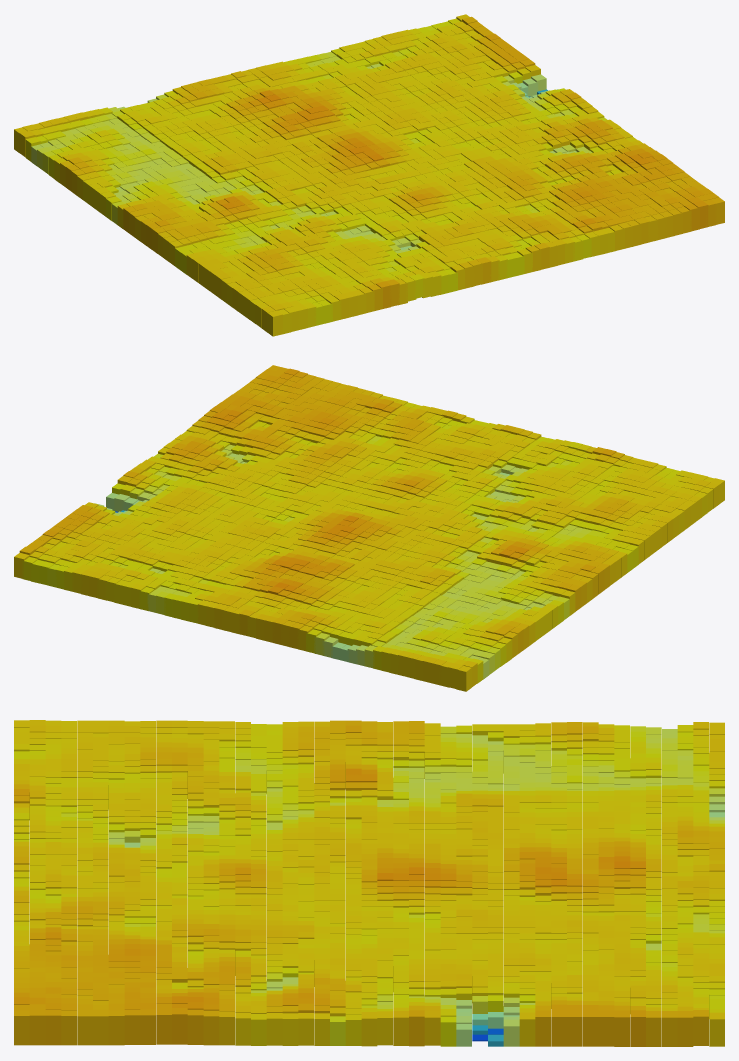
File: population.glb
The picture shows the model from 3 angles, top to bottom: view 1: azimuth 30°, elevation 25°; view 2: azimuth 150°, elevation 25°; view 3: azimuth 270°, elevation 25°; orthographic projection. The views are drawn at different scales.
Visible parts, largest first — view 1: population; view 2: population; view 3: population.
Boxes of the visible parts, <box> form: population: <box>14,14,724,336</box>; population: <box>14,365,724,691</box>; population: <box>14,720,724,1046</box>.
Bounding box in the file's own units: 4565 × 278 × 4527.
